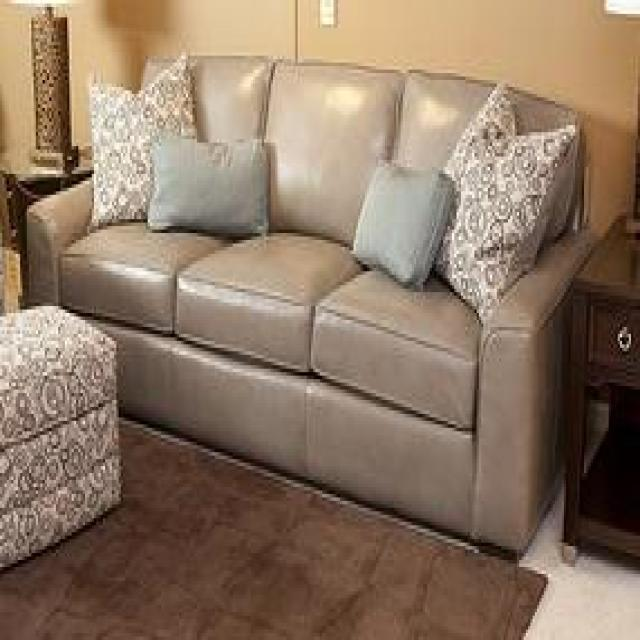sofa: (29, 54, 590, 557)
